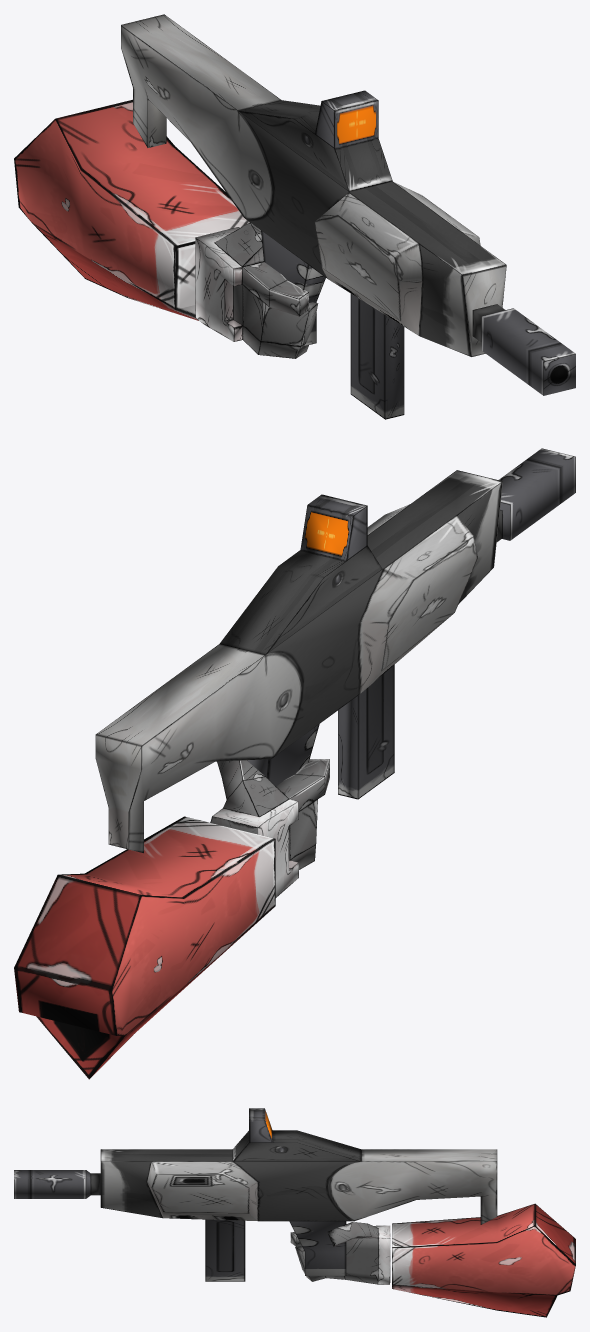
Rendered from BasicProjectile_V1.fbx.
3 views of the same model, one above another, from view 1: azimuth 30°, elevation 25°; view 2: azimuth 150°, elevation 25°; view 3: azimuth 270°, elevation 25° (orthographic). The views are drawn at different scales.
Parts seen in each view (by area): view 1: LArm1; view 2: LArm1; view 3: LArm1.
Boxes of the visible parts, x1,y1,x2,y2 form: LArm1: (14,14,575,419); LArm1: (14,448,575,1079); LArm1: (14,1108,575,1317).
Size of the model in its own units: 0.4694 by 1.44 by 3.54.
